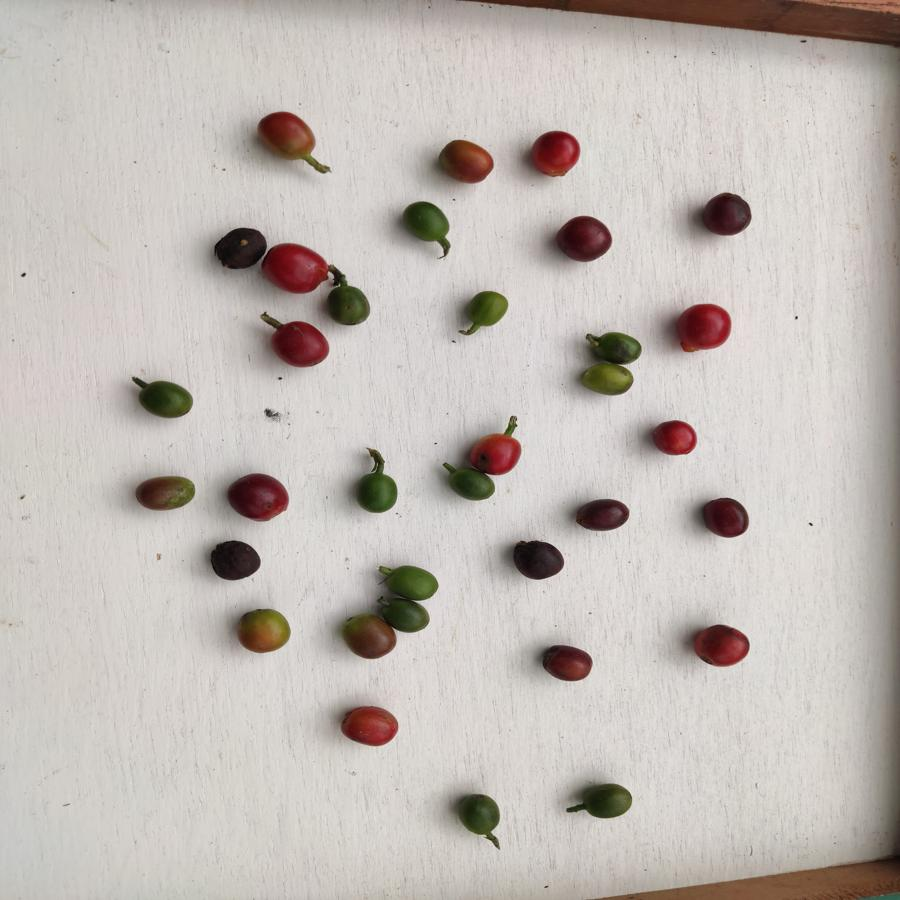Inmaduro: (132, 377, 195, 420), (570, 780, 635, 819), (402, 202, 452, 250), (461, 287, 511, 330), (383, 563, 439, 601), (381, 595, 435, 632), (459, 790, 499, 839), (586, 329, 644, 362), (356, 470, 397, 515), (327, 285, 371, 325), (447, 469, 496, 502)
Maduro: (260, 243, 331, 298), (673, 304, 735, 359), (692, 619, 755, 666), (337, 702, 402, 747), (272, 320, 328, 371), (469, 425, 527, 473), (527, 129, 581, 179), (651, 415, 703, 462)
Pinton: (258, 111, 320, 163), (437, 138, 497, 188), (234, 610, 298, 654), (340, 613, 396, 660), (137, 474, 196, 514), (578, 363, 639, 396)
Sobremaduro: (227, 472, 297, 524), (555, 214, 612, 263), (208, 538, 265, 585), (699, 494, 752, 544), (699, 190, 751, 237), (512, 538, 565, 583), (571, 497, 631, 534), (539, 643, 594, 683), (214, 226, 264, 269)
